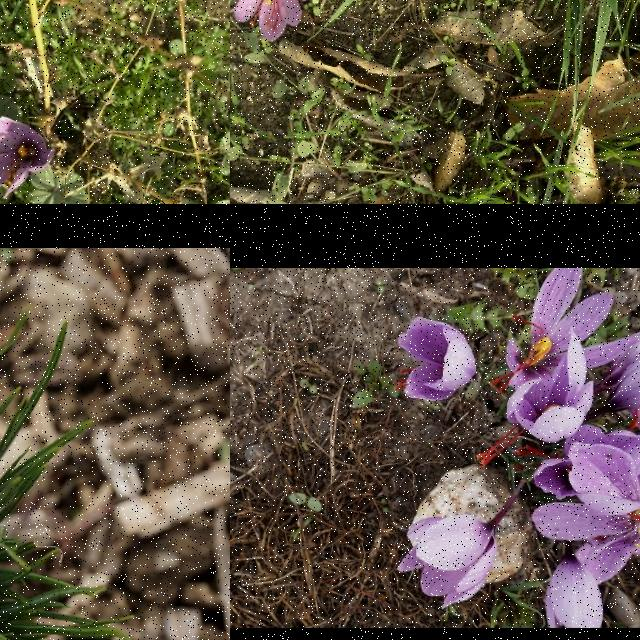flower: (530, 406, 640, 584), (474, 326, 594, 470), (395, 517, 499, 611), (394, 316, 478, 402), (0, 116, 56, 200), (544, 554, 604, 628), (234, 0, 310, 42)
overlap: (488, 268, 640, 584)
